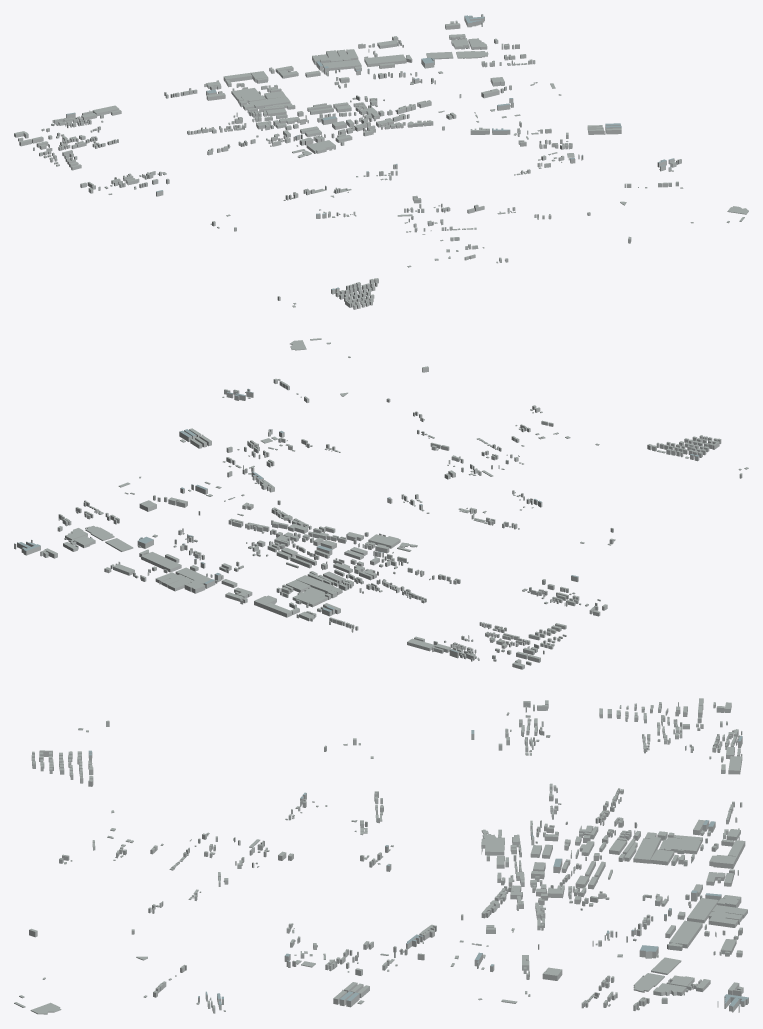
Rendered from far.glb.
3 renders of one model, top to bottom at view 1: azimuth 30°, elevation 25°; view 2: azimuth 150°, elevation 25°; view 3: azimuth 270°, elevation 25°, orthographic. The views are drawn at different scales.
Bounding box in the file's own units: 2132 × 27.02 × 2127.
